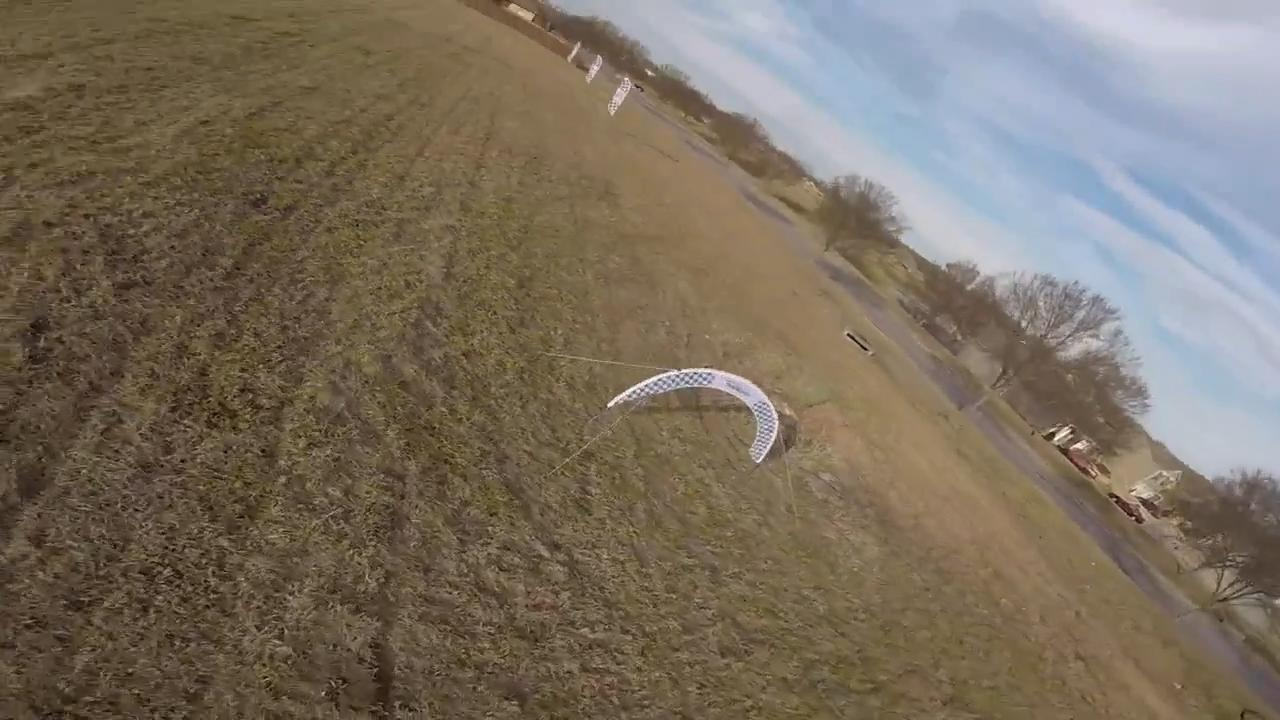gate: (610, 366, 781, 467)
